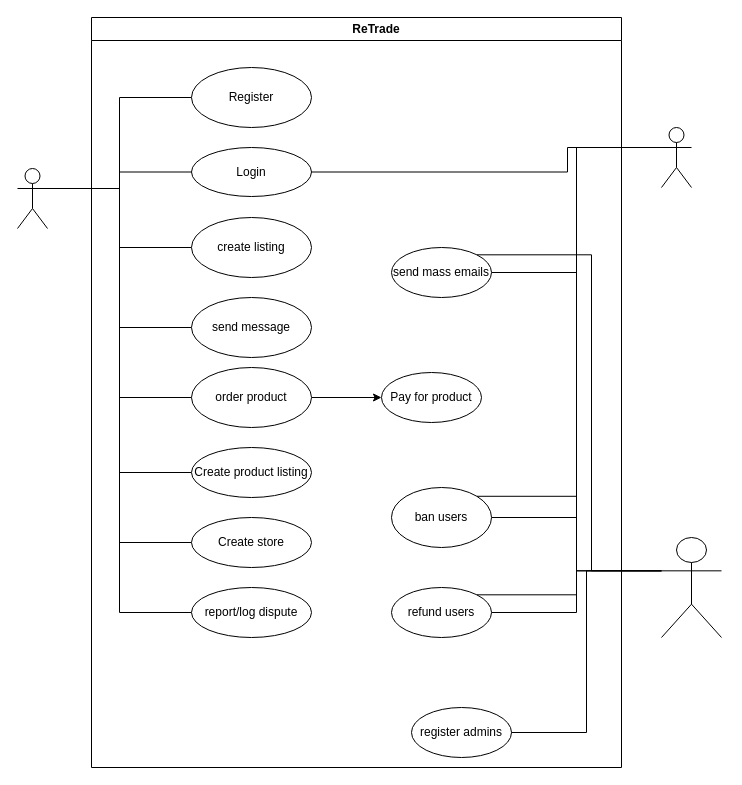
Image size: 742x785. Some labels were removed from this diagram. Each missing label, with the centre of its shape:
"Administrator" belongs at [676,157].
"super admin" belongs at [691,587].
"User" belongs at [32,198].
